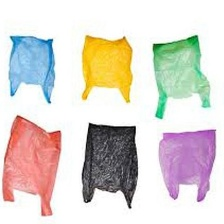plastic_bag: (0, 111, 67, 219), (75, 117, 144, 214), (146, 29, 215, 120), (150, 123, 224, 205), (70, 29, 136, 109), (2, 34, 62, 109)
